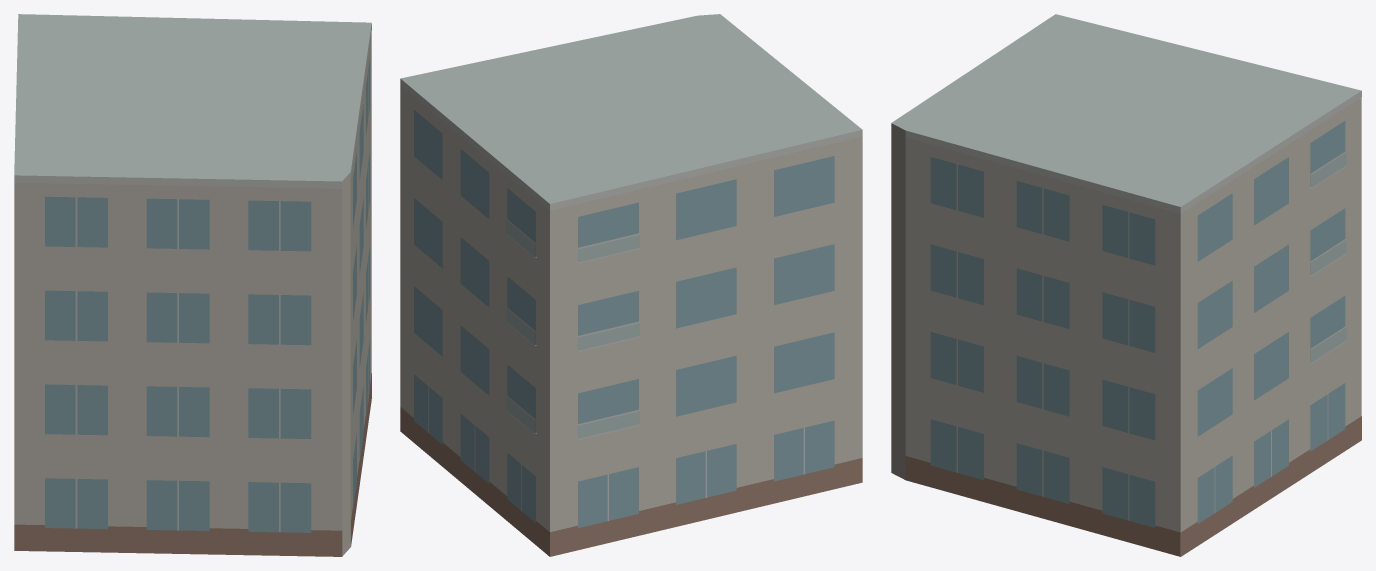
File: survey-upis-32524898.glb
The picture shows the model from 3 angles, left to right: view 1: azimuth 30°, elevation 25°; view 2: azimuth 150°, elevation 25°; view 3: azimuth 270°, elevation 25°; orthographic projection. The views are drawn at different scales.
Visible parts, largest first — view 1: survey-upis-32524898.tmp; view 2: survey-upis-32524898.tmp; view 3: survey-upis-32524898.tmp.
Part boxes in pixels (<box>): survey-upis-32524898.tmp: <box>14,14,371,556</box>; survey-upis-32524898.tmp: <box>400,14,862,556</box>; survey-upis-32524898.tmp: <box>891,14,1361,556</box>.
Bounding box in the file's own units: 15.05 × 12.7 × 15.49.
